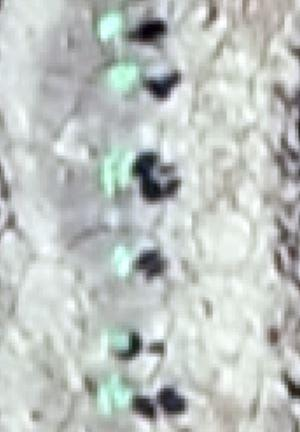cotton: (98, 150, 133, 189), (99, 371, 132, 411), (108, 63, 137, 94), (99, 14, 125, 39), (112, 246, 133, 275), (103, 330, 130, 350)
